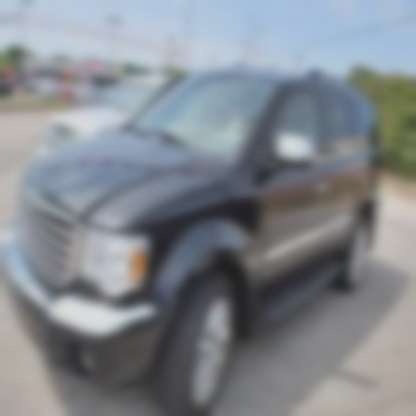Vehicle: (2, 63, 384, 414)
